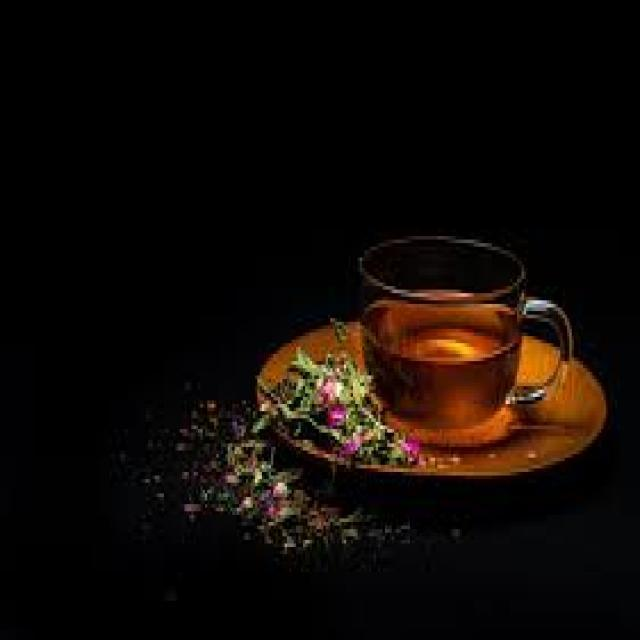taza: (342, 236, 582, 457)
